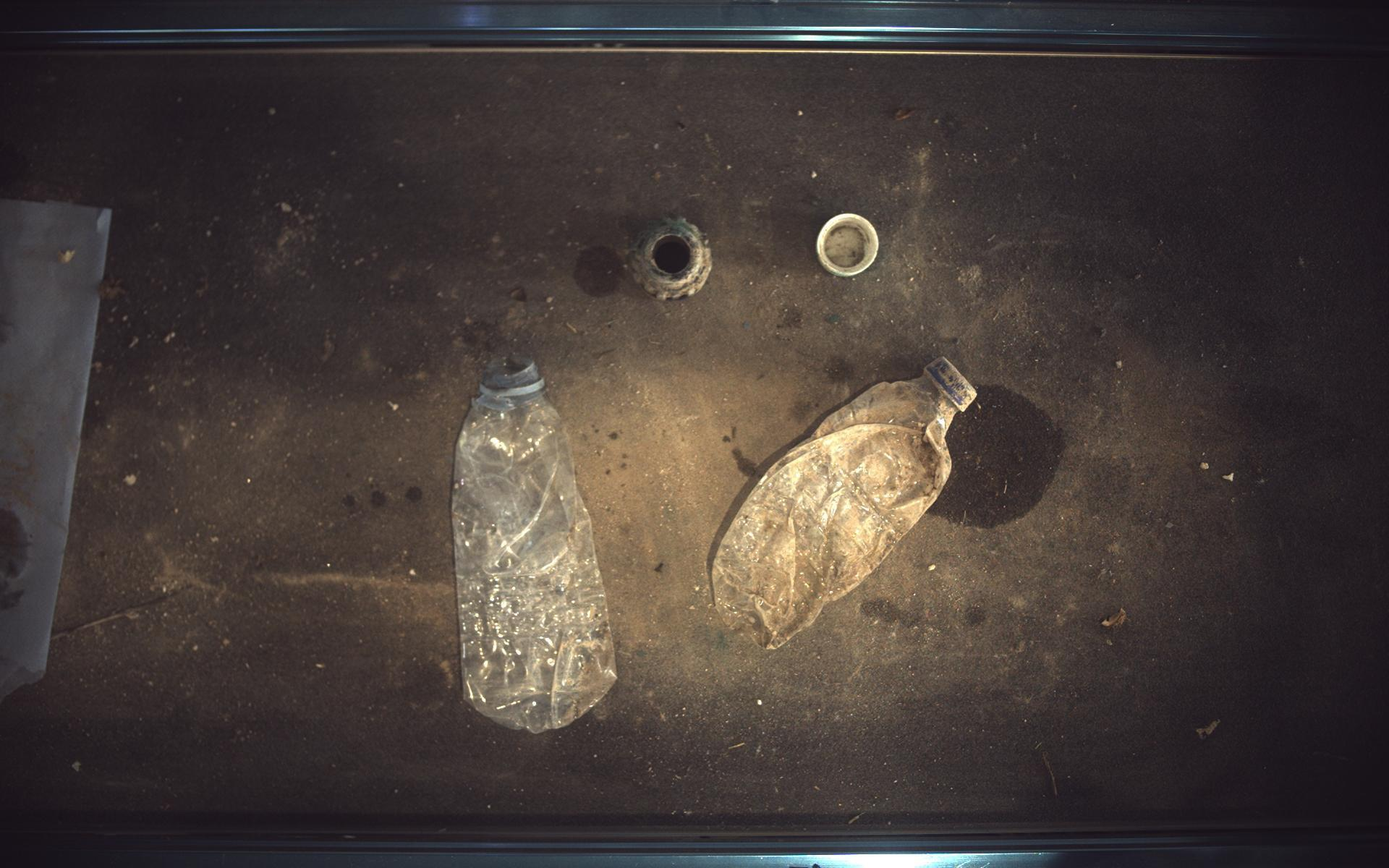general_w: (713, 357, 978, 650), (452, 354, 617, 734), (817, 213, 880, 276)
plastic: (629, 217, 713, 299)
